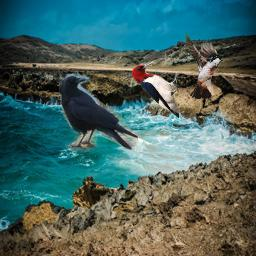Crow: (59, 72, 138, 152)
Swallow: (183, 31, 224, 99)
Woodpecker: (131, 61, 179, 118)
